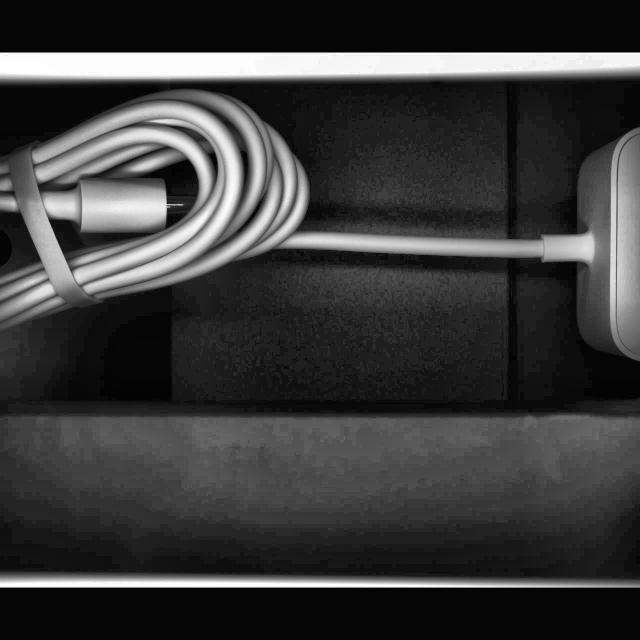Cable: (0, 85, 640, 372)
